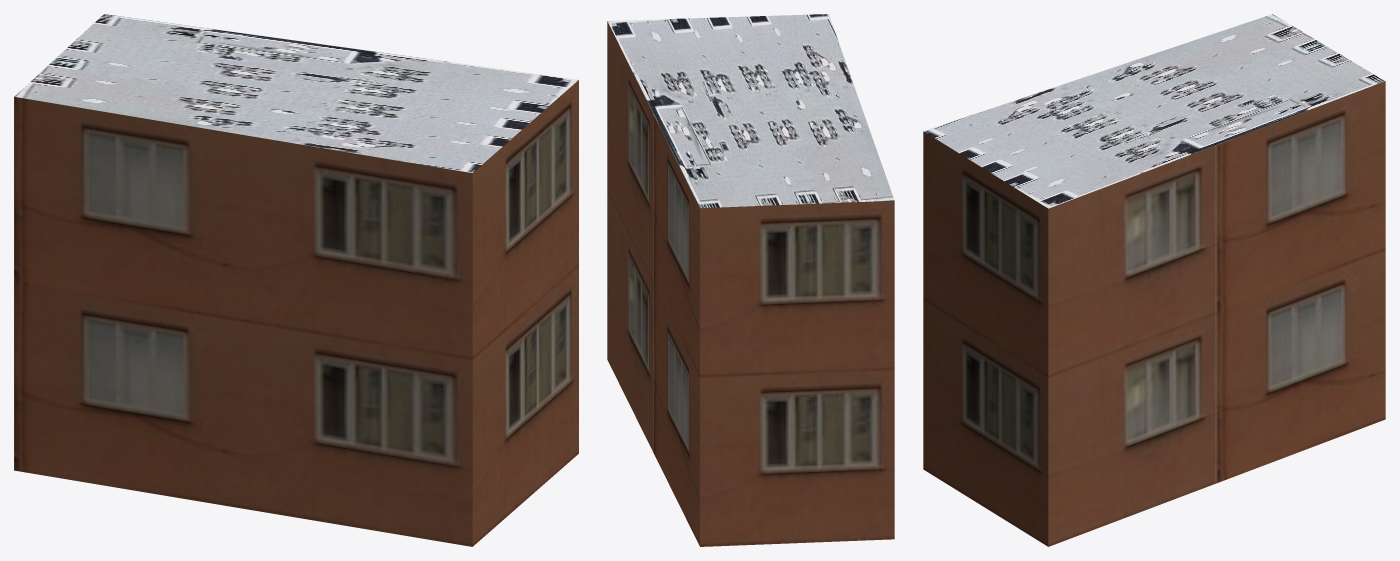
The model's file is ResTex__1594.fbx.
The picture shows the model from 3 angles, left to right: view 1: azimuth 30°, elevation 25°; view 2: azimuth 150°, elevation 25°; view 3: azimuth 270°, elevation 25°; orthographic projection. The views are drawn at different scales.
Visible parts, largest first — view 1: CityEngineMaterial_20_m, CityEngineMaterial_m; view 2: CityEngineMaterial_20_m, CityEngineMaterial_m; view 3: CityEngineMaterial_20_m, CityEngineMaterial_m.
Boxes of the visible parts, bbox=[...] form: CityEngineMaterial_20_m: bbox=[14, 80, 578, 546]; CityEngineMaterial_m: bbox=[14, 14, 578, 172]; CityEngineMaterial_20_m: bbox=[607, 21, 894, 546]; CityEngineMaterial_m: bbox=[607, 14, 894, 208]; CityEngineMaterial_20_m: bbox=[923, 81, 1385, 546]; CityEngineMaterial_m: bbox=[924, 14, 1384, 208].
Size of the model in its own units: 7.41 by 6 by 7.43.
2 materials, 2 textured.
